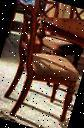Silla: (0, 4, 83, 127), (13, 0, 83, 95)
